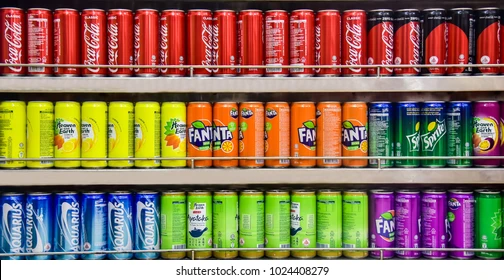soft_drink: (26, 6, 55, 77), (26, 102, 56, 169), (263, 101, 293, 167), (341, 101, 371, 167), (368, 9, 397, 76), (211, 190, 238, 260), (393, 192, 421, 257), (187, 10, 213, 76), (161, 101, 187, 166)
